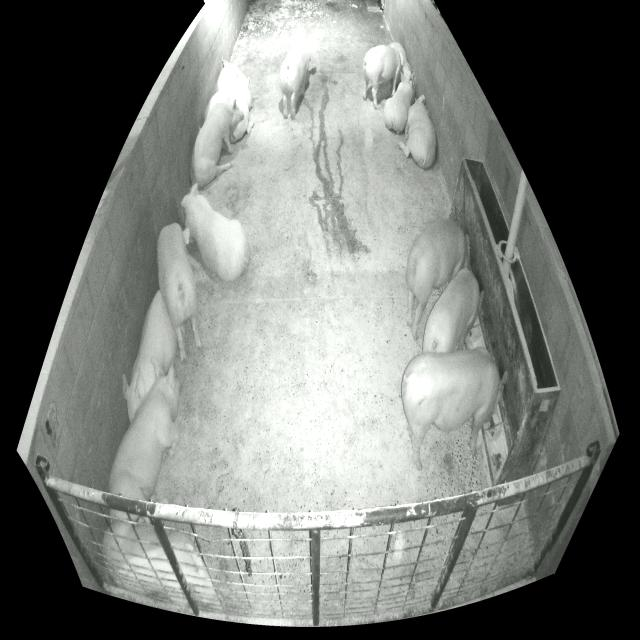pig: (401, 347, 508, 470), (108, 356, 182, 501), (103, 519, 215, 609), (122, 289, 178, 423), (406, 218, 466, 340), (180, 184, 248, 282), (157, 223, 202, 362), (422, 268, 483, 352), (190, 98, 244, 189), (215, 58, 253, 143), (281, 33, 316, 119), (397, 95, 436, 169), (363, 45, 401, 110), (384, 72, 414, 133), (391, 42, 412, 79), (205, 91, 228, 121)
